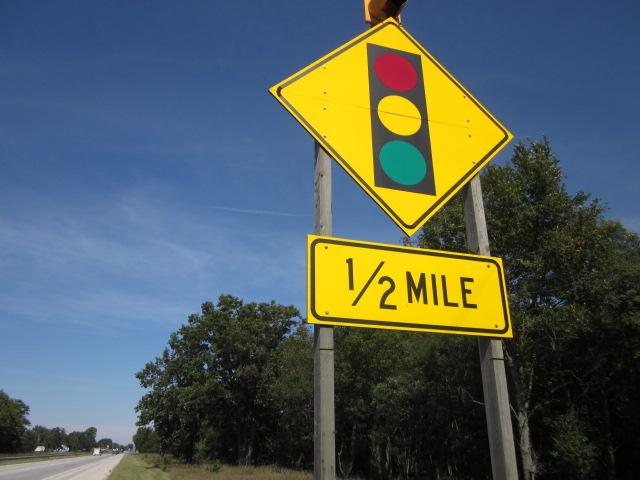warning: (268, 15, 524, 237)
